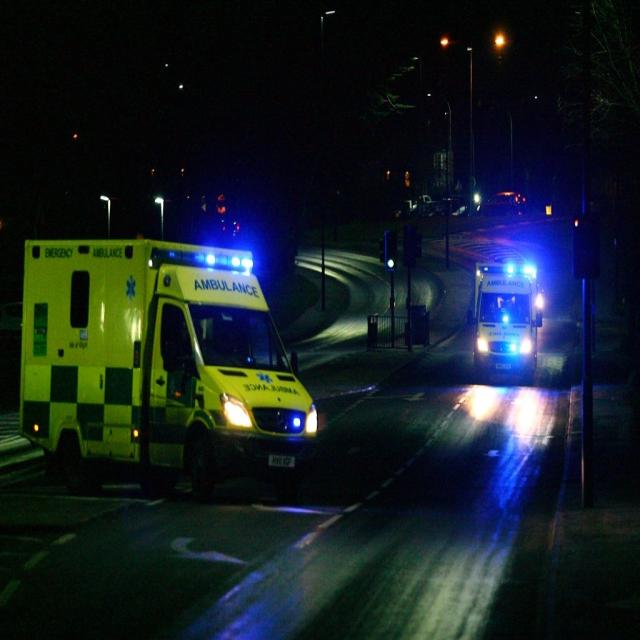ambulance: (18, 236, 318, 502)
